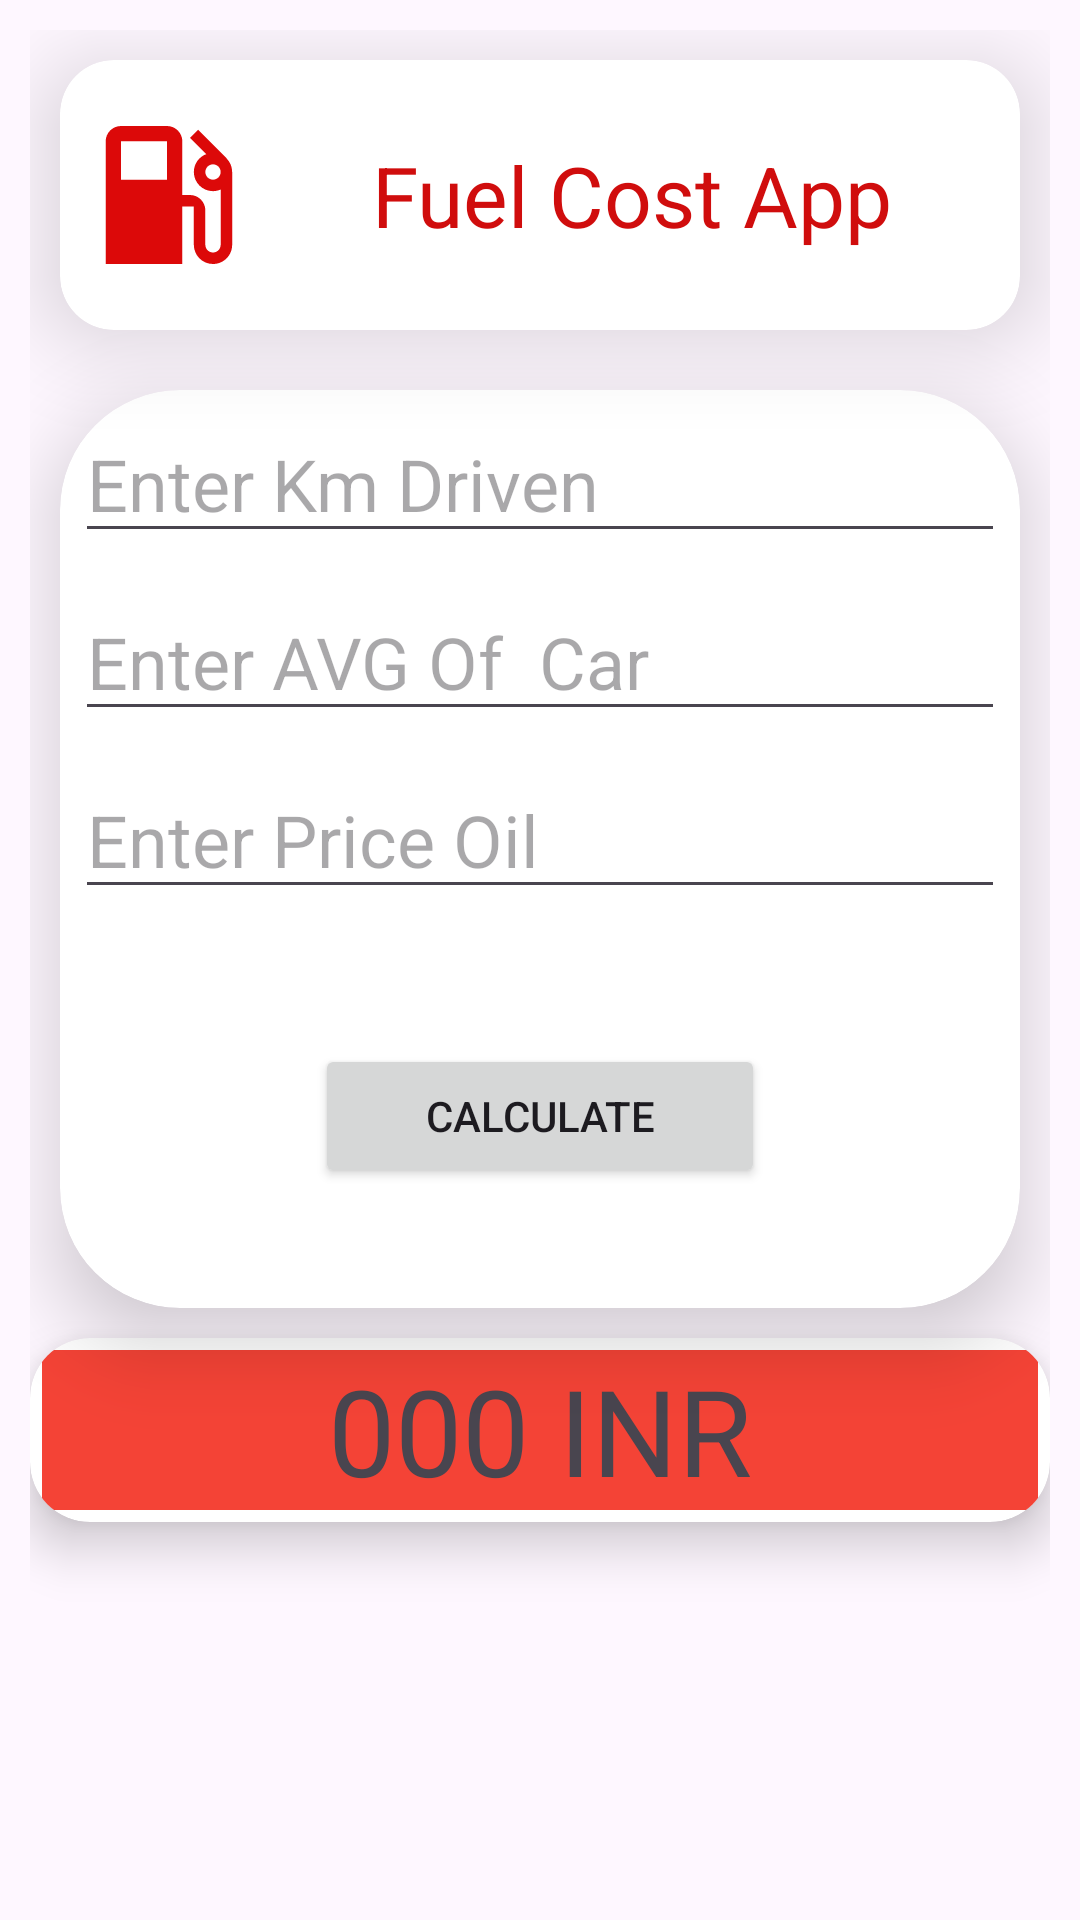

Screen size 1080*1920. Icon name, then its box in pixels as BBox(x1, y1, x2, y2):
local gas station: BBox(105, 126, 233, 264)
